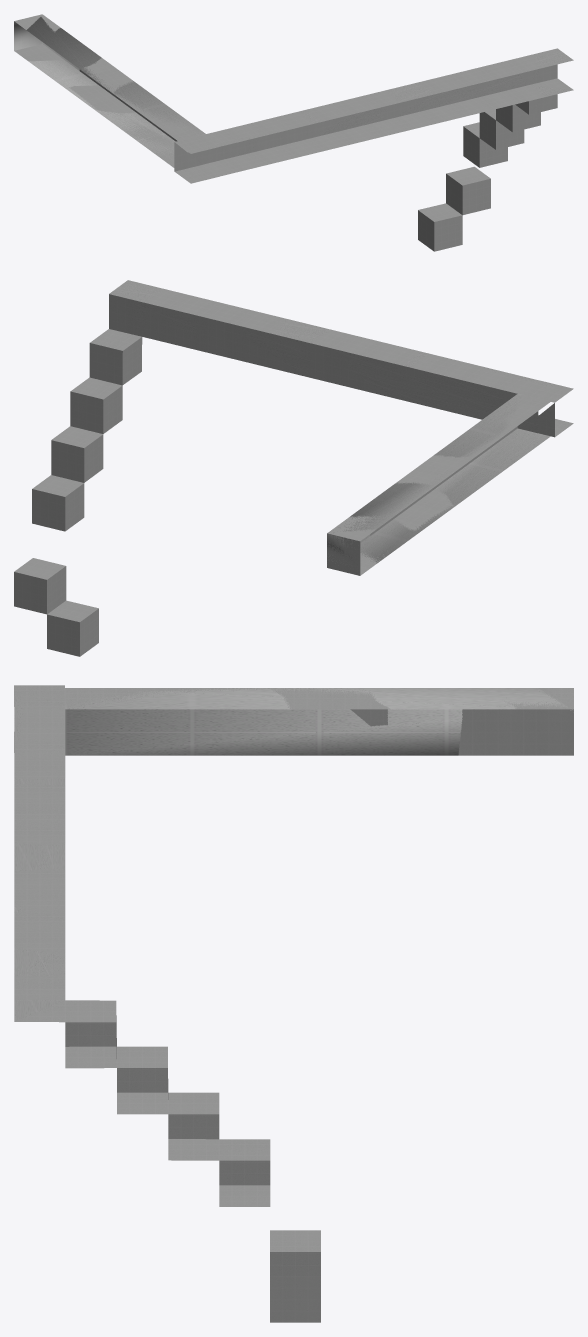
File: catwalk.fbx
3 views of the same model, one above another, from view 1: azimuth 30°, elevation 25°; view 2: azimuth 150°, elevation 25°; view 3: azimuth 270°, elevation 25° (orthographic). The views are drawn at different scales.
Visible parts, largest first — view 1: Catwalk, CatwalkPhys; view 2: Catwalk, CatwalkPhys; view 3: Catwalk, CatwalkPhys.
Part boxes in pixels (x1=…): Catwalk: x1=14, y1=14, x2=573, y2=251; CatwalkPhys: x1=14, y1=17, x2=573, y2=251; Catwalk: x1=14, y1=289, x2=573, y2=656; CatwalkPhys: x1=14, y1=280, x2=572, y2=655; Catwalk: x1=14, y1=685, x2=573, y2=1322; CatwalkPhys: x1=14, y1=685, x2=572, y2=1320.
Bounding box in the file's own units: 404 × 240 × 330.
